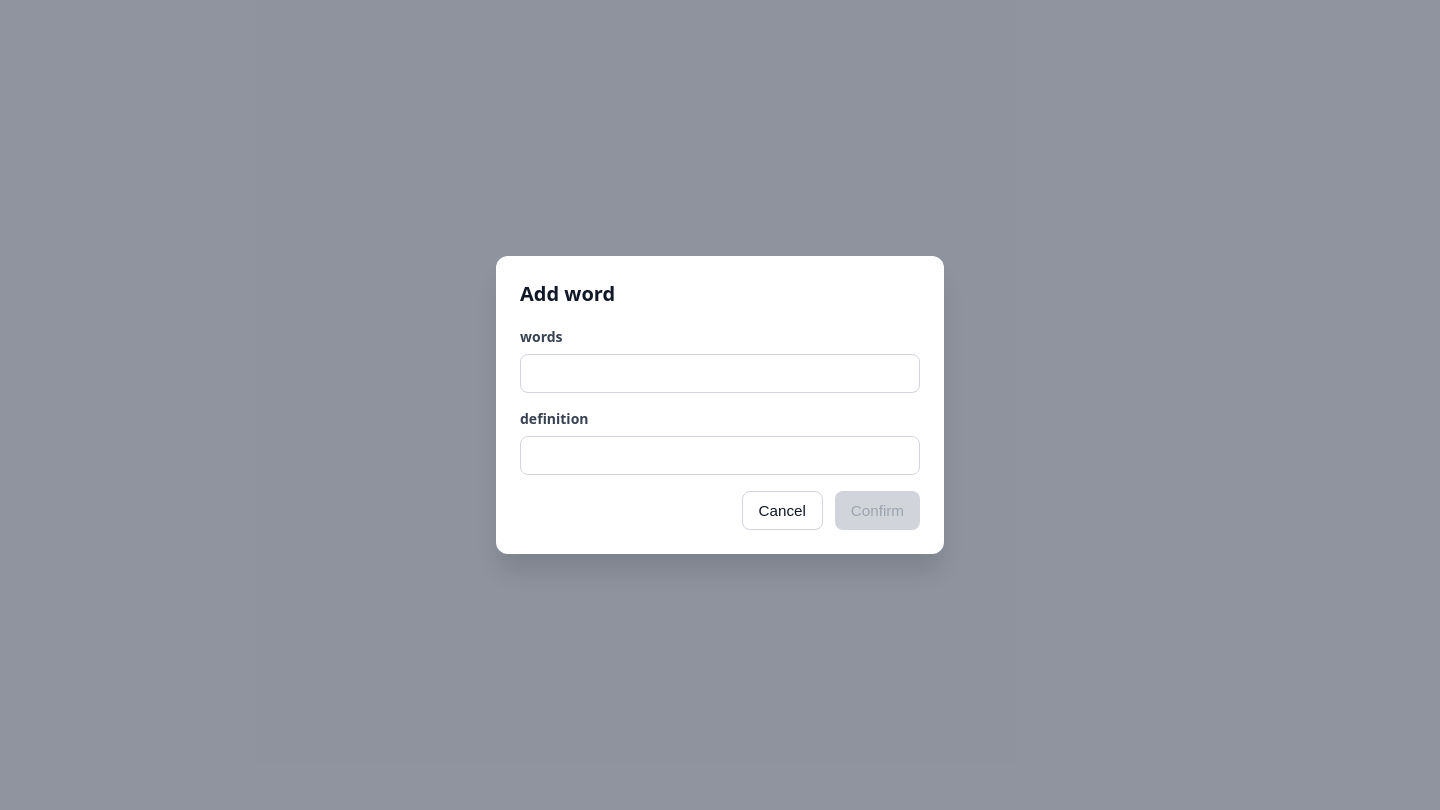
Test: AddWordModal › shows a warning and disables confirm when a character is missing
In the field labelled "words": (720, 374) [520, 354, 920, 393], type "爱好"
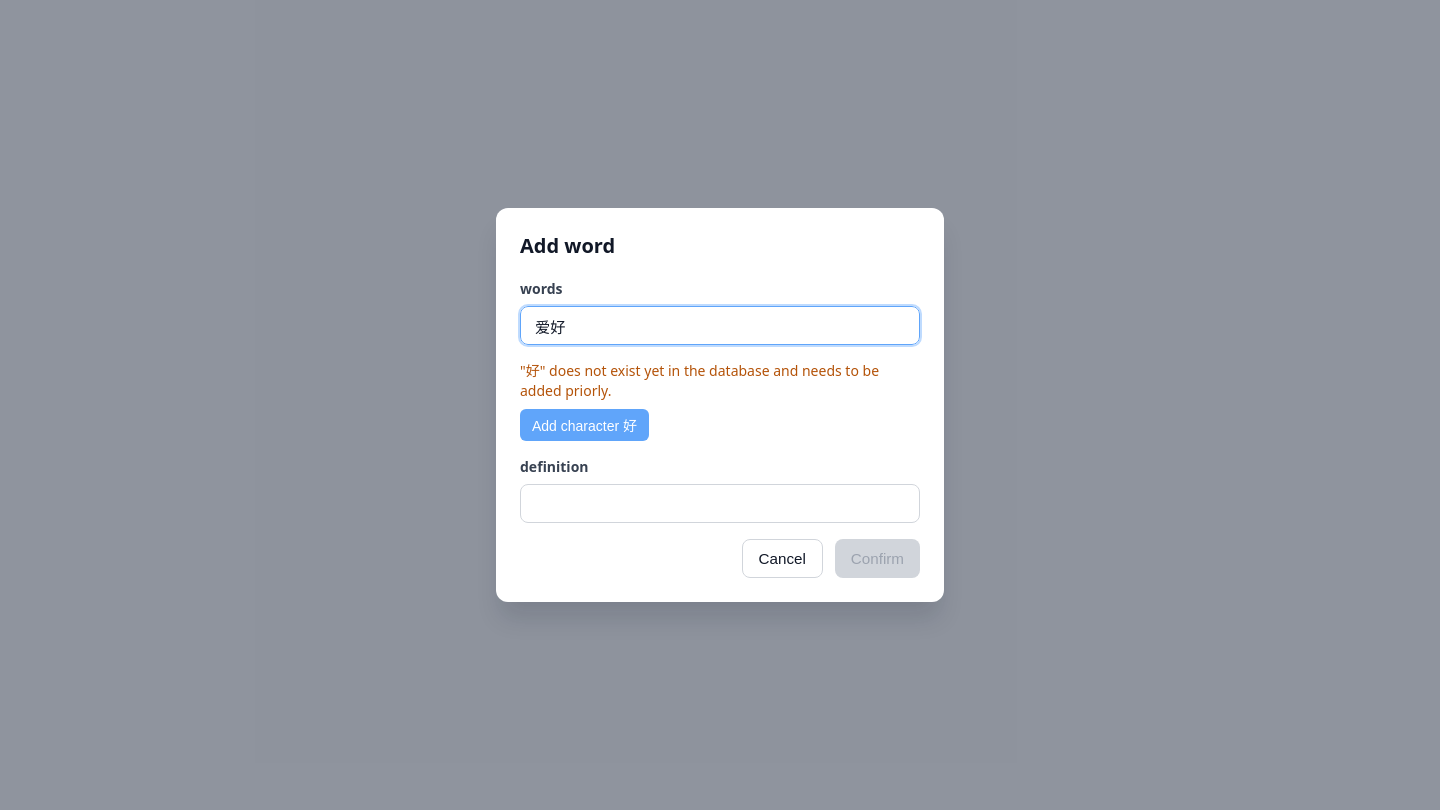
Expected: the button "Confirm" is disabled, [835, 539, 920, 578]
Result: the text "\"好\" does not exist yet in the database and needs to be added priorly." is shown at [520, 361, 920, 401]
